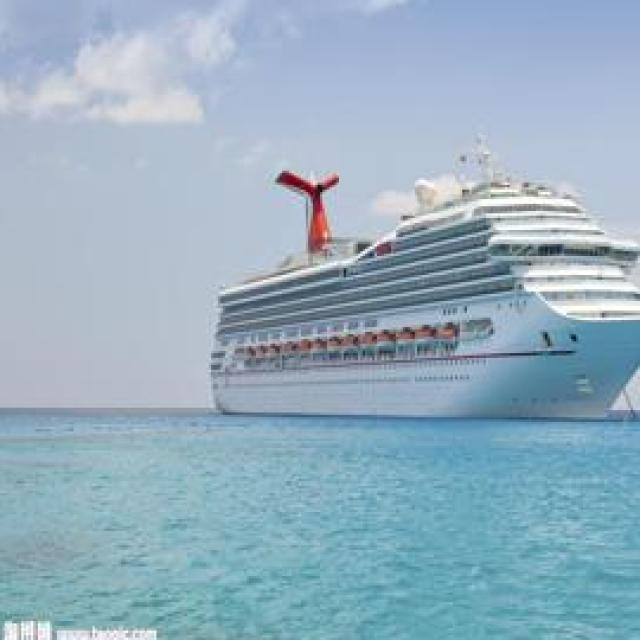passenger ship: (201, 135, 640, 443)
